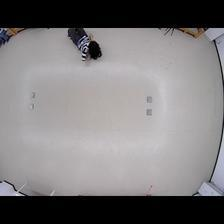fall: (66, 28, 105, 63)
